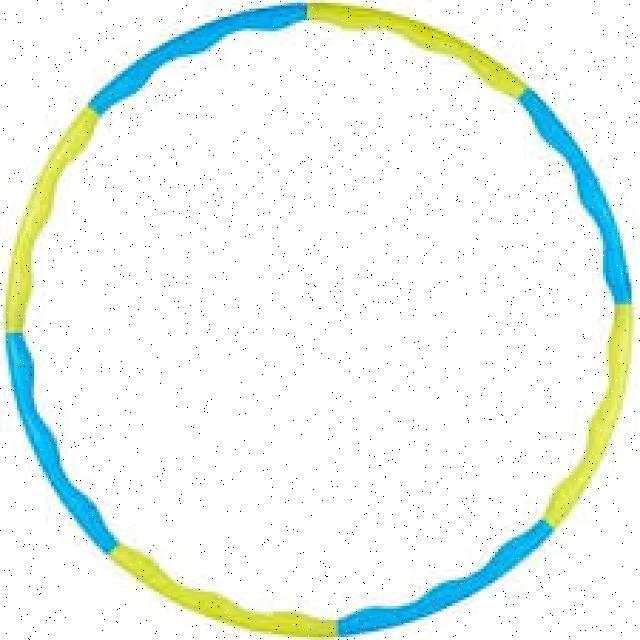Circle: (2, 1, 633, 636)
